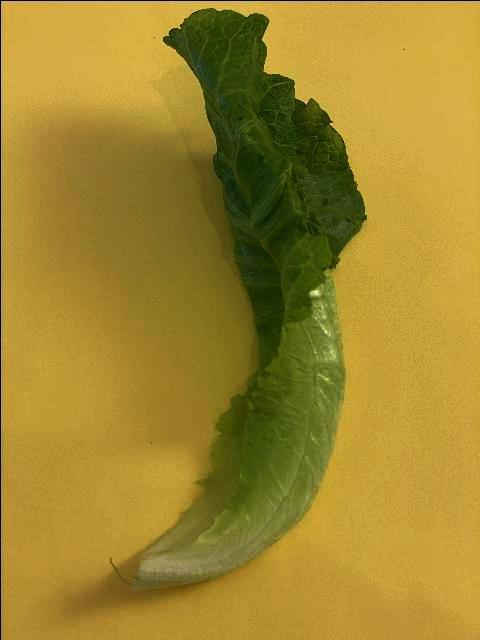lettuce: (123, 4, 368, 596)
